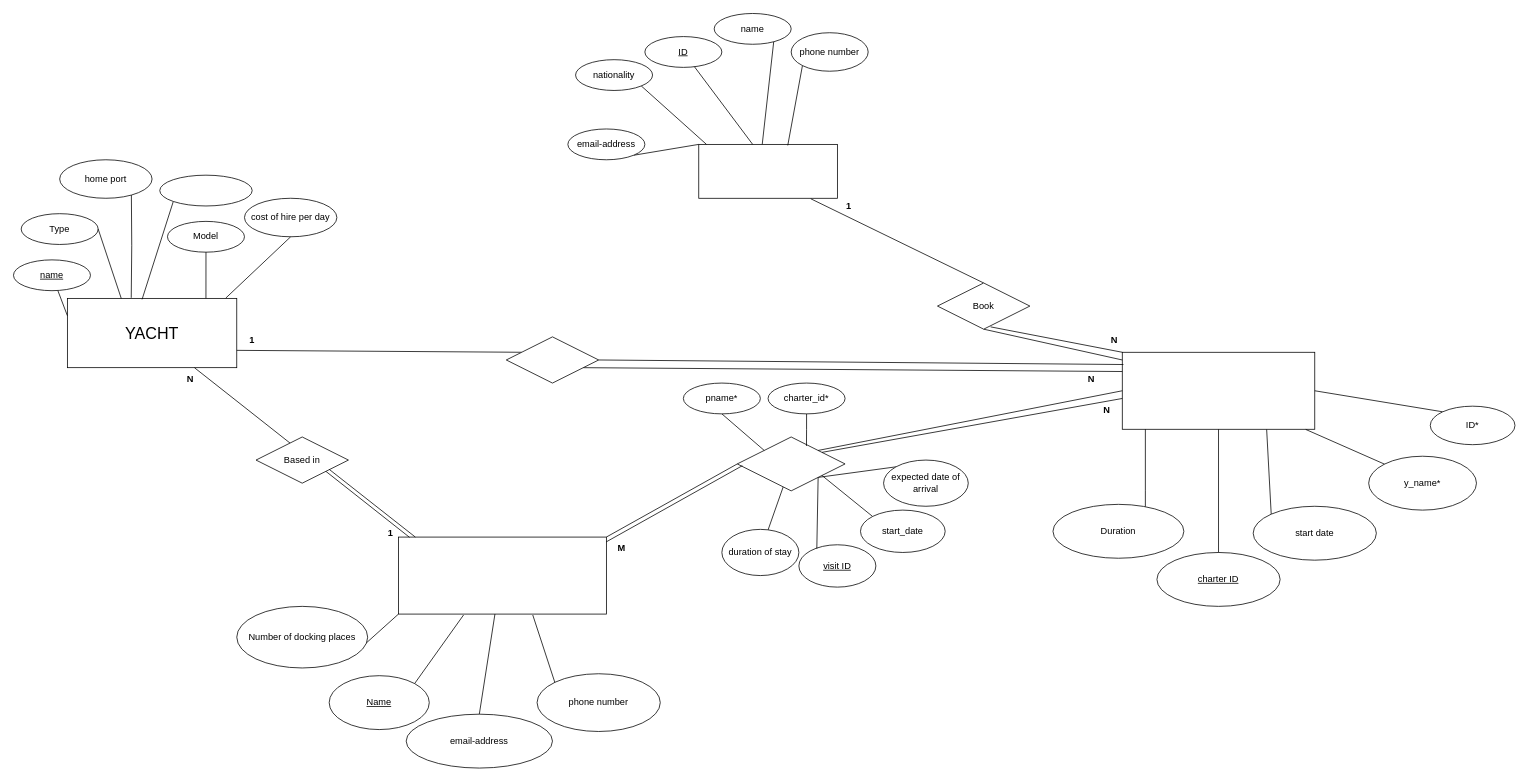
Image size: 1528x782. Some labels were removed from this diagram. Each missing label, with the centre of its shape:
"CHARTER" belongs at (x=1218, y=390).
"Customer" belongs at (x=767, y=171).
"Involve" belongs at (x=552, y=359).
"number of berths" belongs at (x=205, y=190).
"PORT" belongs at (x=502, y=575).
"Visit" belongs at (x=791, y=463).
